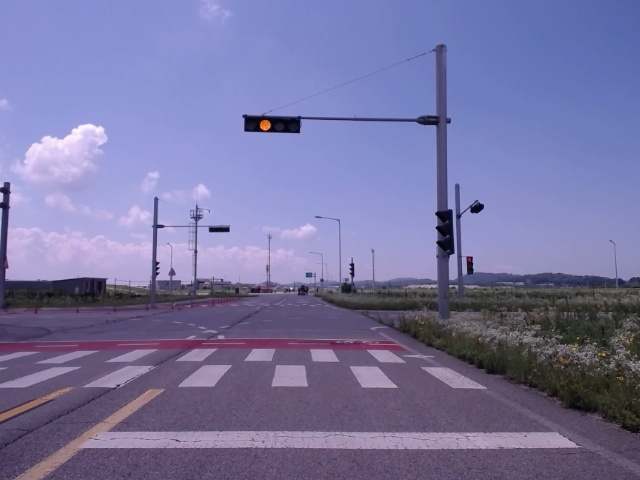orange_4: (243, 115, 300, 134)
